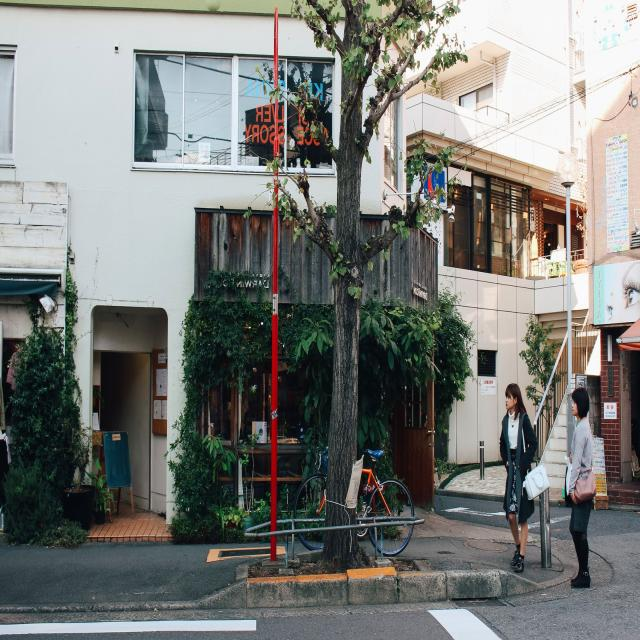adult: (499, 383, 542, 572), (563, 391, 595, 589)
